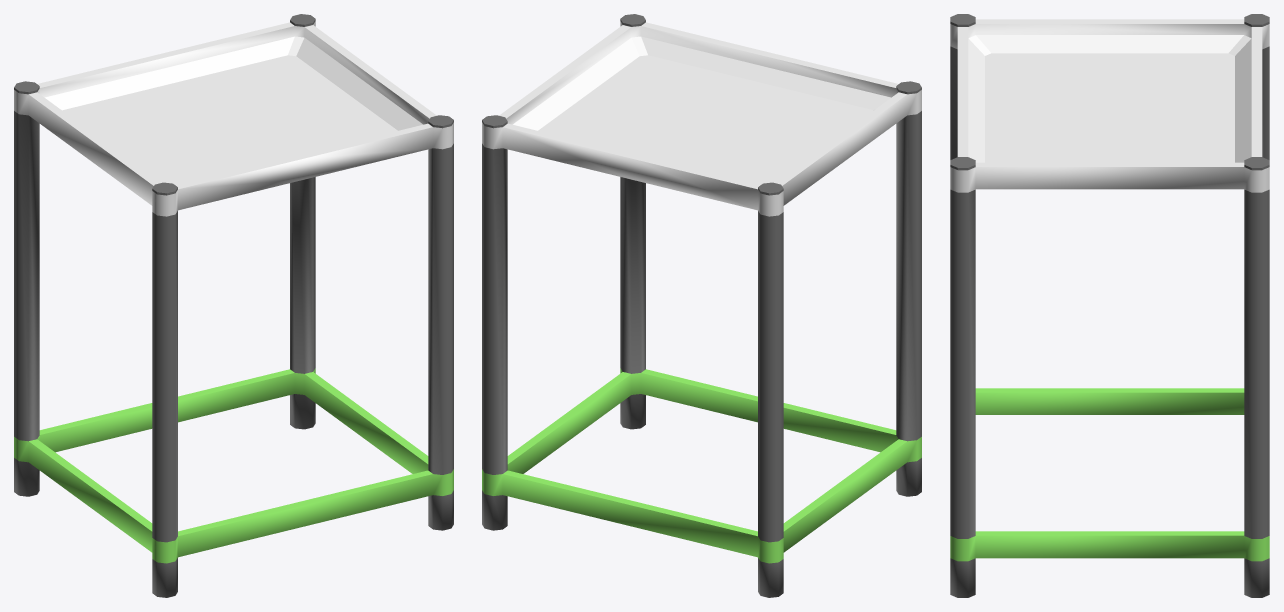
The model's file is medshelftex2noholes.fbx.
3 views of the same model, side by side, from view 1: azimuth 30°, elevation 25°; view 2: azimuth 150°, elevation 25°; view 3: azimuth 270°, elevation 25° (orthographic). The views are drawn at different scales.
Parts seen in each view (by area): view 1: Shelf.002; view 2: Shelf.002; view 3: Shelf.002.
Boxes of the visible parts, x1,y1,x2,y2 form: Shelf.002: (14,14,453,597); Shelf.002: (482,14,921,597); Shelf.002: (950,14,1269,597).
Size of the model in its own units: 0.7611 by 0.9919 by 0.6675.
